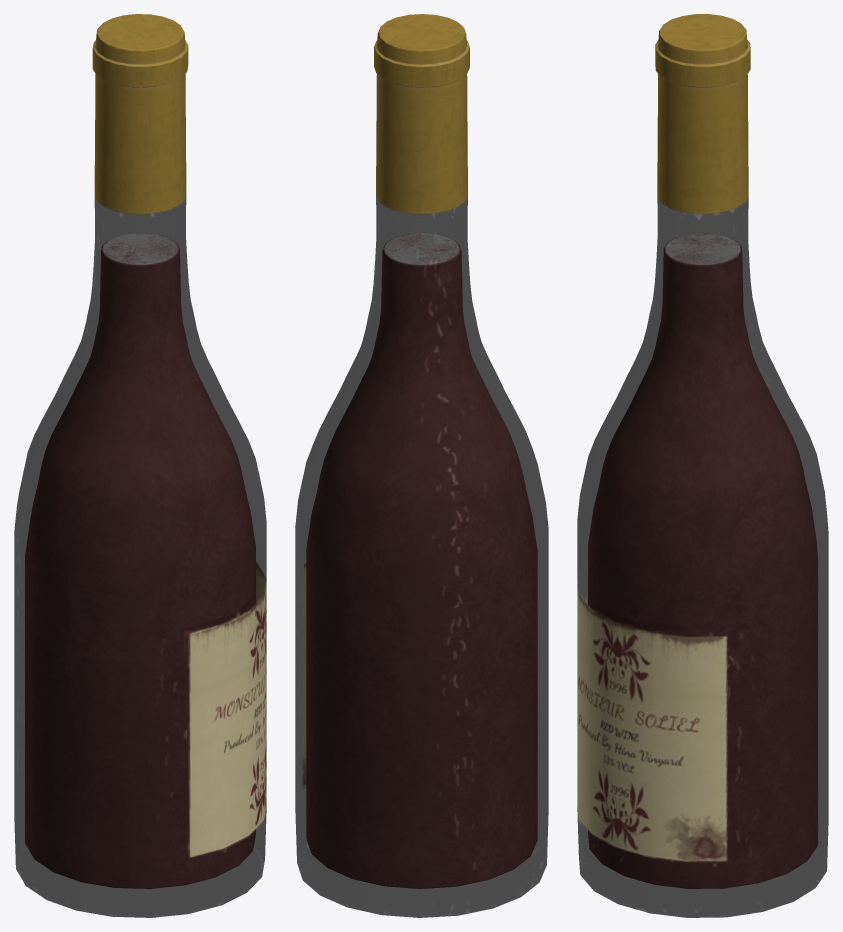
The model's file is wine_bottle.glb.
3 renders of one model, left to right at view 1: azimuth 30°, elevation 25°; view 2: azimuth 150°, elevation 25°; view 3: azimuth 270°, elevation 25°, orthographic.
Visible parts, largest first — view 1: WineBottles2_LP; view 2: WineBottles2_LP; view 3: WineBottles2_LP.
Boxes of the visible parts, x1,y1,x2,y2 form: WineBottles2_LP: (14,14,266,917); WineBottles2_LP: (295,14,548,917); WineBottles2_LP: (577,14,828,917).
Size of the model in its own units: 9.79 by 35.83 by 9.79.
Materials: 1 (1 with a texture image).
